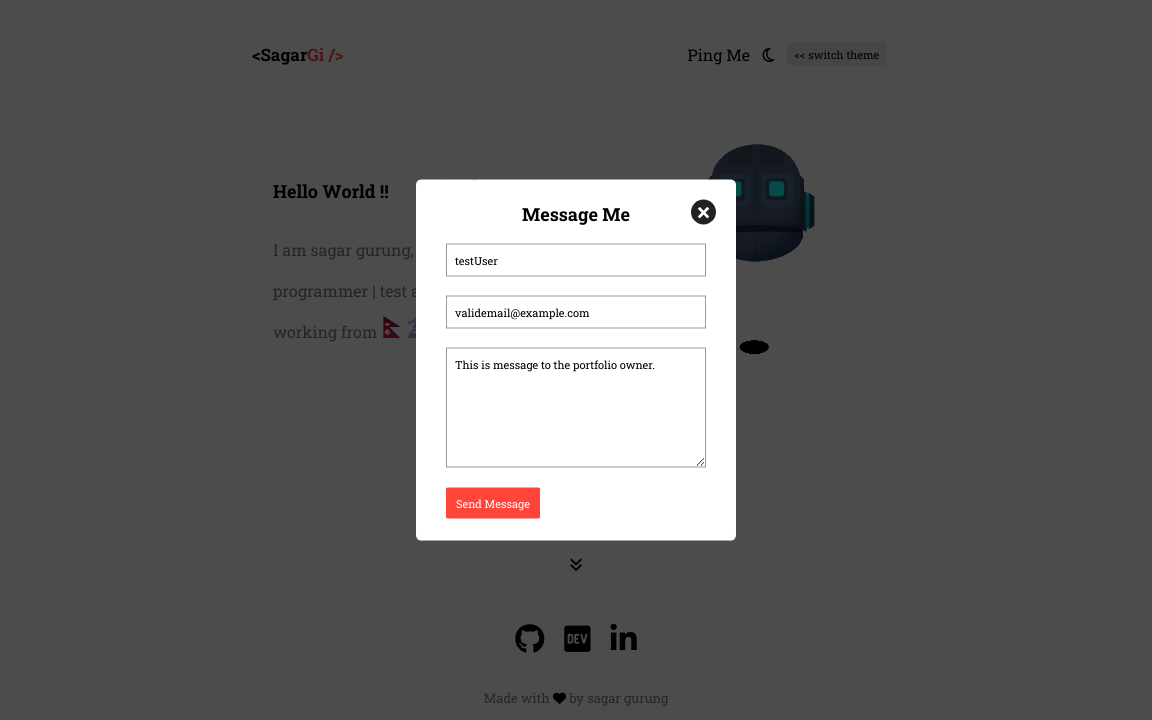
Contact/Message Me Form › on trigger send message › should show "Thank you, your email has been sent !!!" on all valid inputs
Click the button with id "submit".
click(493, 503)  # box [446,488,540,518]
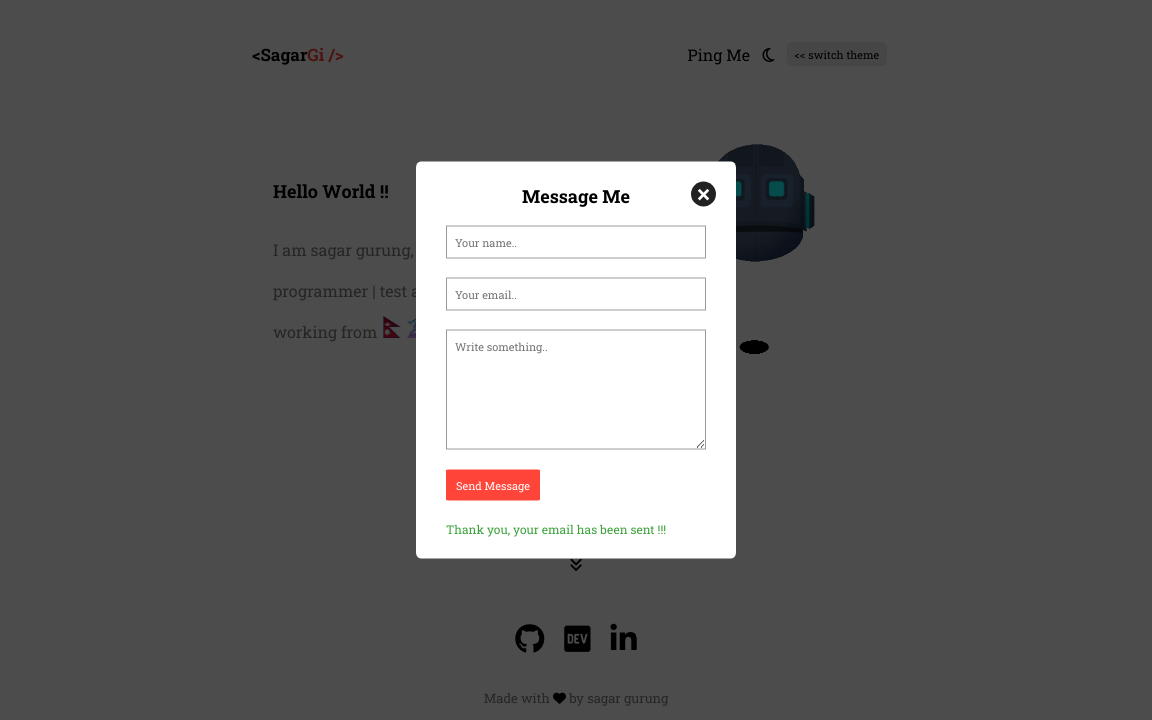
Check: the text "Thank you, your email has been sent !!!" is shown, box [446,520,666,536]
